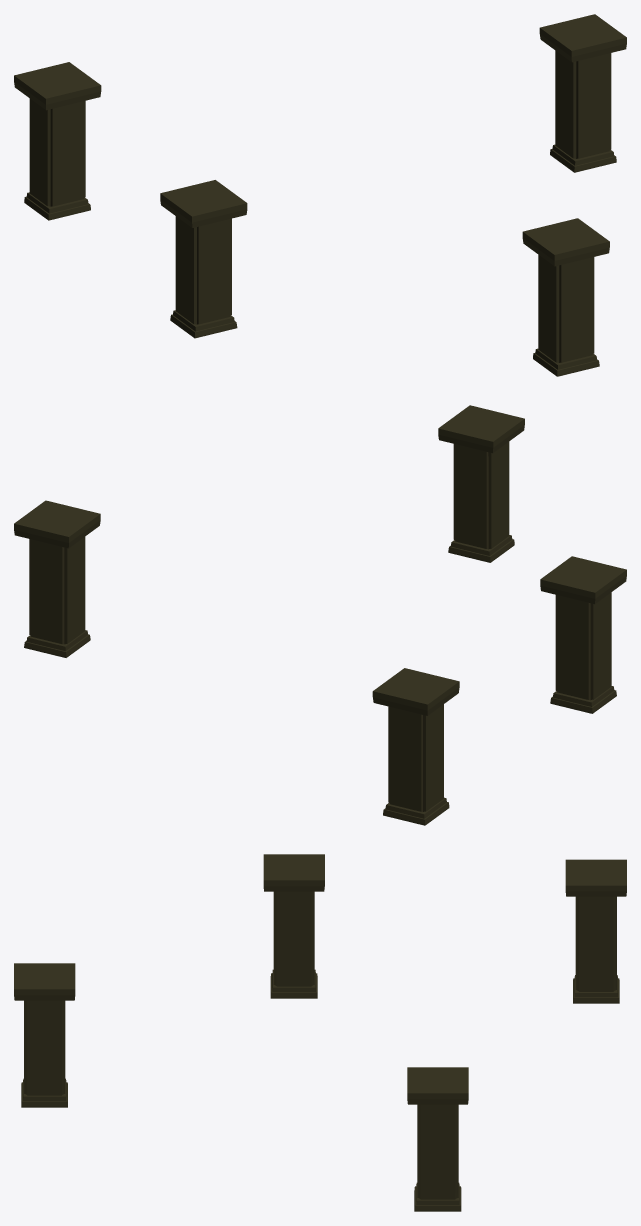
The model's file is Pillars.fbx.
3 views of the same model, one above another, from view 1: azimuth 30°, elevation 25°; view 2: azimuth 150°, elevation 25°; view 3: azimuth 270°, elevation 25° (orthographic). The views are drawn at different scales.
Visible parts, largest first — view 1: Pillar; view 2: Pillar; view 3: Pillar.
Part boxes in pixels (x1,y1,x2,y2): Pillar: [14, 14, 626, 376]; Pillar: [14, 405, 626, 825]; Pillar: [14, 854, 626, 1211].
Bounding box in the file's own units: 3519 × 832 × 3816.
